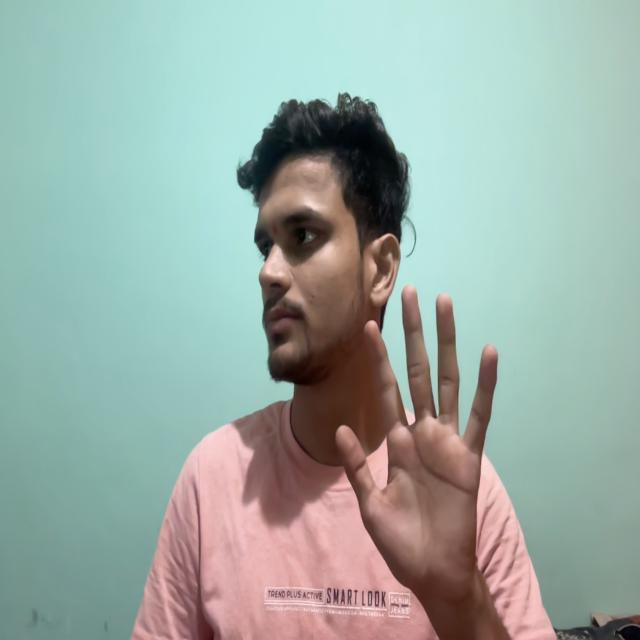hello: (326, 282, 555, 639)
